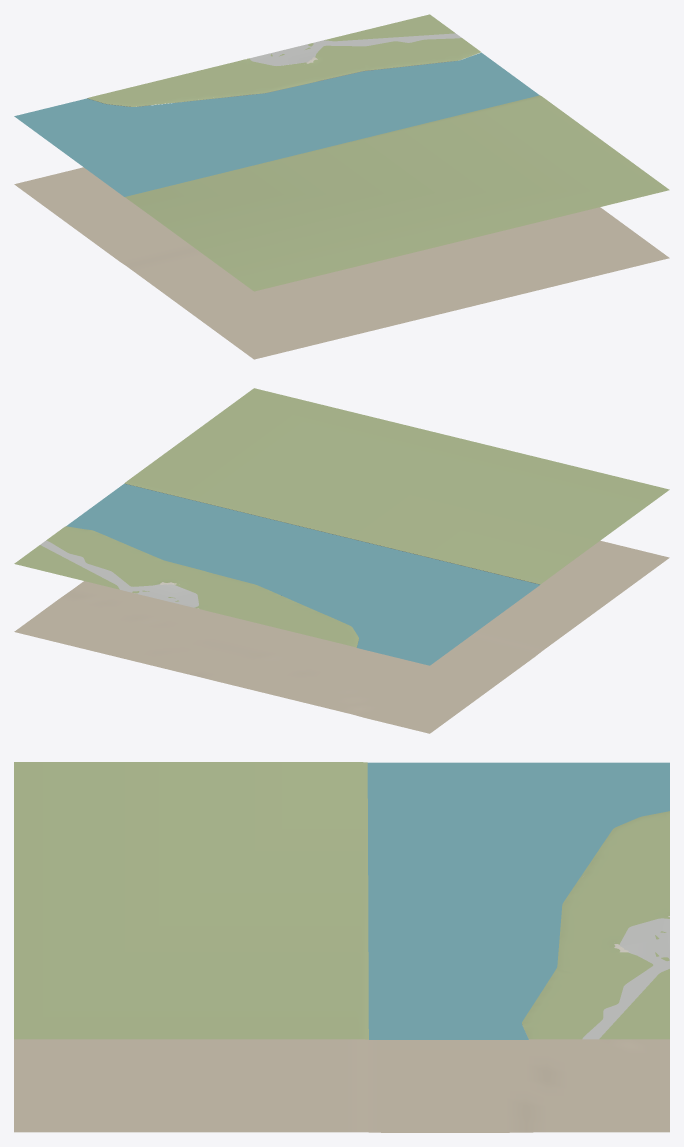
3 renders of one model, top to bottom at view 1: azimuth 30°, elevation 25°; view 2: azimuth 150°, elevation 25°; view 3: azimuth 270°, elevation 25°, orthographic. The views are drawn at different scales.
Parts seen in each view (by area): view 1: s_-12_6__grass, s_-12_6__soil, s_-12_6__water, s_-12_6__stone_paving; view 2: s_-12_6__grass, s_-12_6__soil, s_-12_6__water, s_-12_6__stone_paving; view 3: s_-12_6__grass, s_-12_6__soil, s_-12_6__water, s_-12_6__stone_paving.
Boxes of the visible parts, x1,y1,x2,y2 form: s_-12_6__grass: (87, 14, 669, 291); s_-12_6__soil: (14, 167, 669, 359); s_-12_6__water: (14, 52, 539, 196); s_-12_6__stone_paving: (250, 33, 461, 65); s_-12_6__grass: (14, 388, 669, 647); s_-12_6__soil: (14, 540, 669, 733); s_-12_6__water: (66, 483, 540, 665); s_-12_6__stone_paving: (40, 540, 198, 607); s_-12_6__grass: (14, 762, 669, 1039); s_-12_6__soil: (14, 876, 669, 1132); s_-12_6__water: (367, 762, 669, 1039); s_-12_6__stone_paving: (582, 918, 669, 1039).
Size of the model in its own units: 128 by 20.21 by 128.
